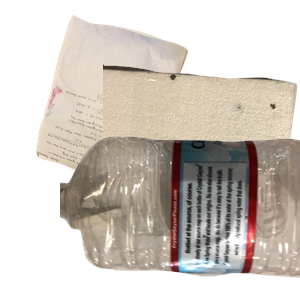glass: (74, 120, 244, 300)
paper: (33, 12, 214, 192)
plastic: (60, 134, 300, 300)
trash: (103, 62, 300, 242)
